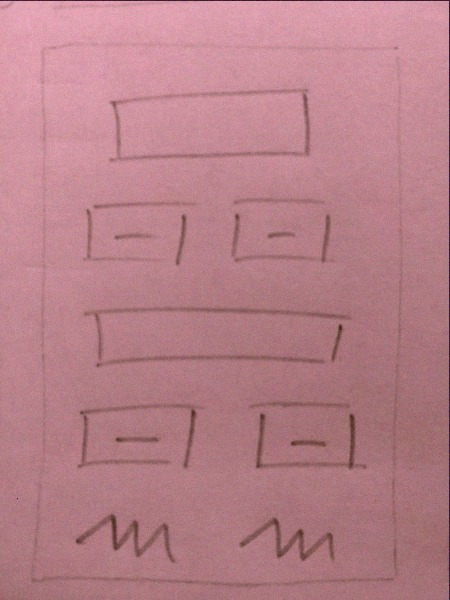button: (239, 392, 376, 481), (67, 400, 211, 476), (72, 196, 207, 274), (221, 189, 345, 272)
text: (65, 502, 184, 568), (233, 508, 349, 569)
text_input: (71, 303, 360, 375), (103, 85, 325, 167)
